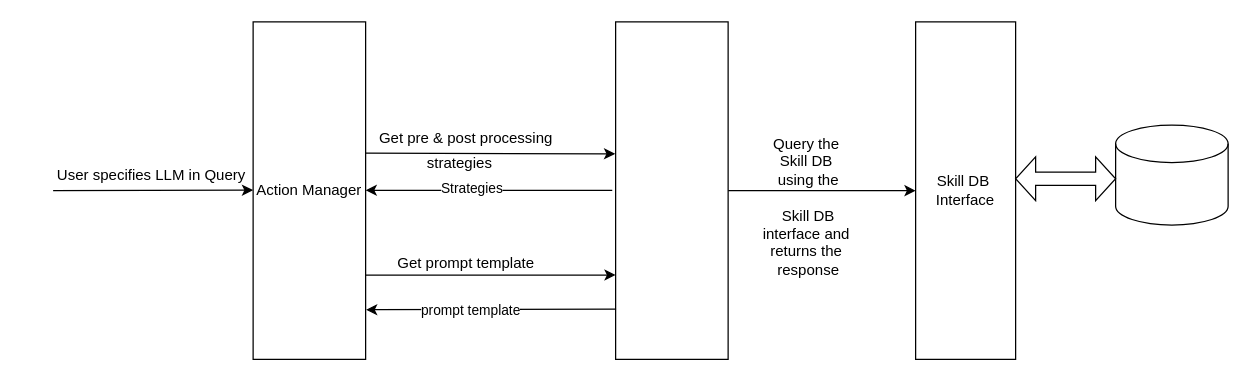
The diagram is 1250 pixels wide and 381 high, and some of its shapes have lost their labels. The shapes that lost their labels are listed below. From the top down, each one's centre as x and y in pixels, then its label:
At point (671, 190): "Skill Manager".
At point (1171, 174): "Skill DB".
